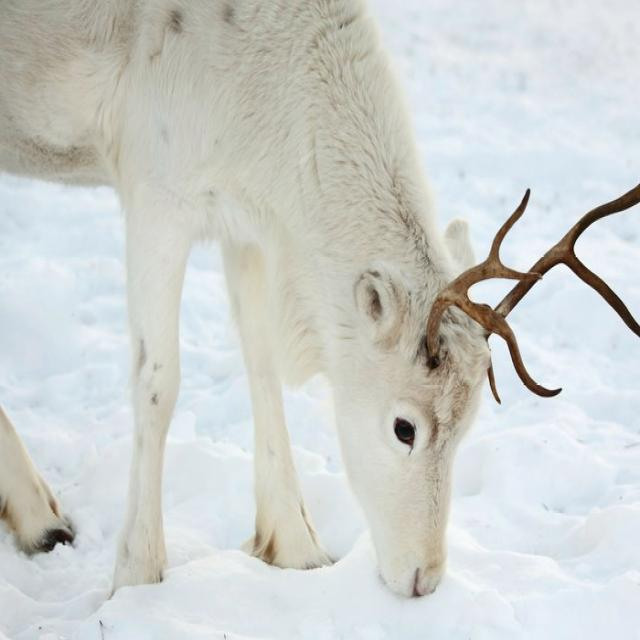reindeer: (1, 0, 640, 596)
